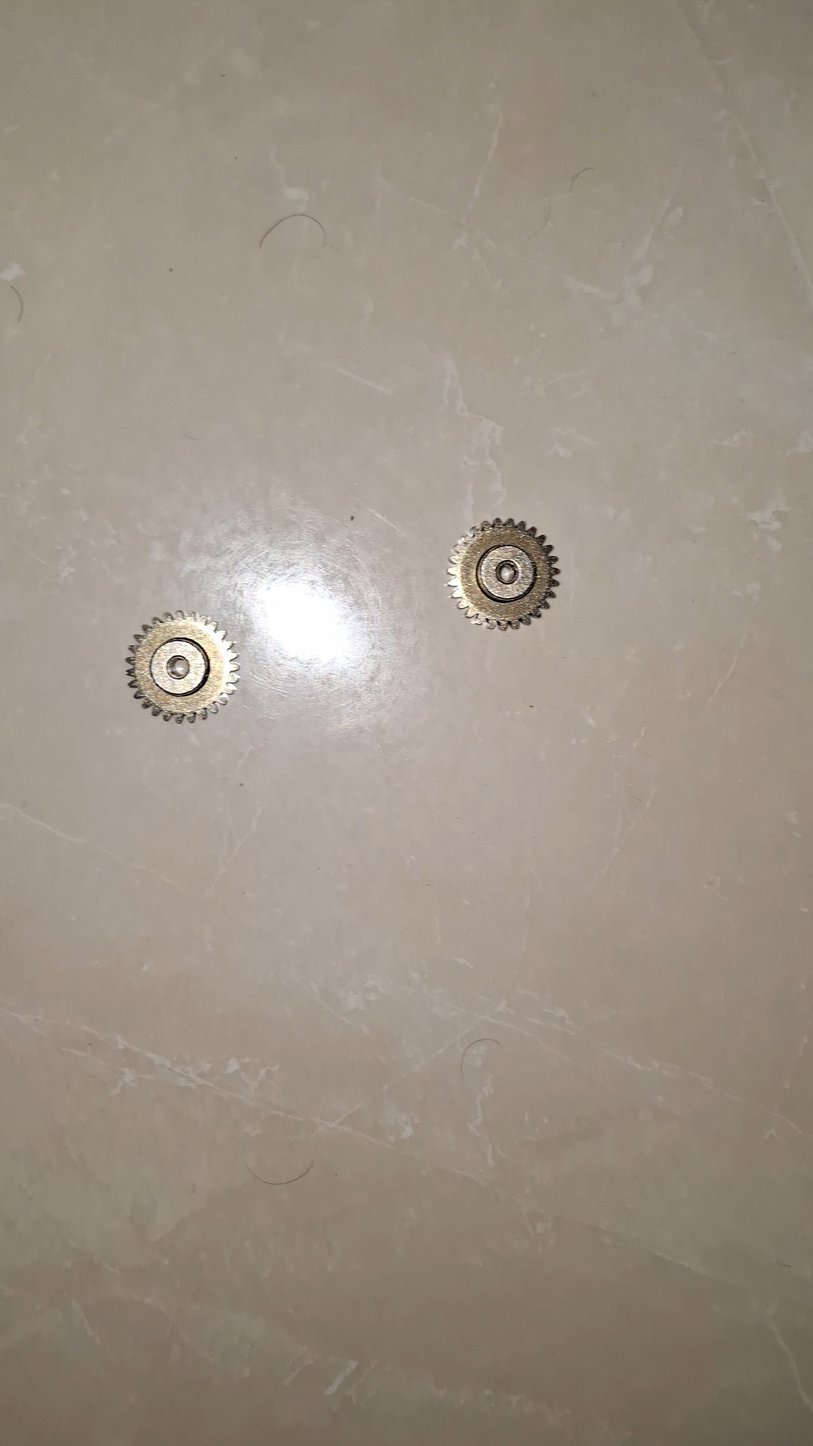spur gear: (448, 519, 559, 630), (127, 612, 238, 722)
